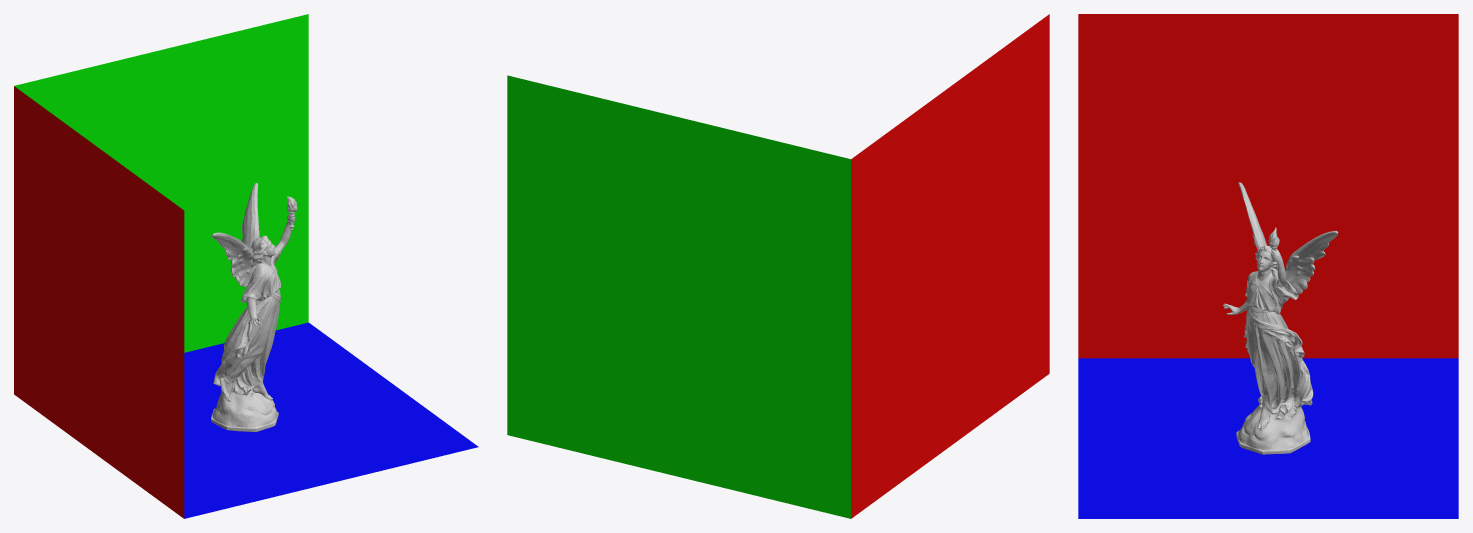
Rendered from Lucy.obj.
The picture shows the model from 3 angles, left to right: view 1: azimuth 30°, elevation 25°; view 2: azimuth 150°, elevation 25°; view 3: azimuth 270°, elevation 25°; orthographic projection. The views are drawn at different scales.
Parts seen in each view (by area): view 1: Plane, Plane.002, Plane.001, Winged_Victory; view 2: Plane.002, Plane; view 3: Plane, Plane.001, Winged_Victory.
Boxes of the visible parts, x1,y1,x2,y2 form: Plane: (14,86,184,518); Plane.002: (14,14,308,352); Plane.001: (184,322,478,518); Winged_Victory: (211,183,297,431); Plane.002: (507,75,850,518); Plane: (851,14,1049,518); Plane: (1078,14,1458,358); Plane.001: (1078,358,1458,518); Winged_Victory: (1223,182,1338,454).
Size of the model in its own units: 10 by 10 by 10.
